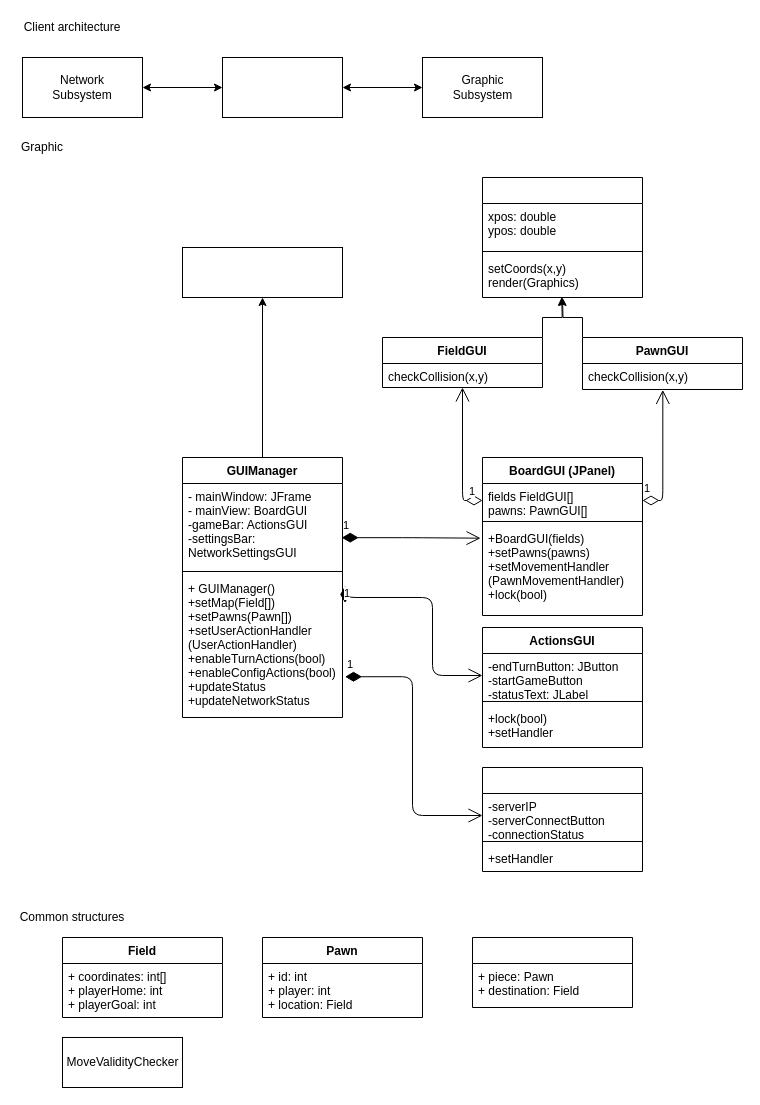
Image size: 760x1105. Some labels were removed from this diagram. Each missing label, with the box of its shape:
Game Subsystem: (222, 56, 342, 118)
NetworkSettingsGUI: (482, 766, 642, 872)
Renderable: (482, 176, 642, 298)
Step: (472, 936, 632, 1008)
«interface» PawnMovementHandler: (182, 246, 342, 298)
